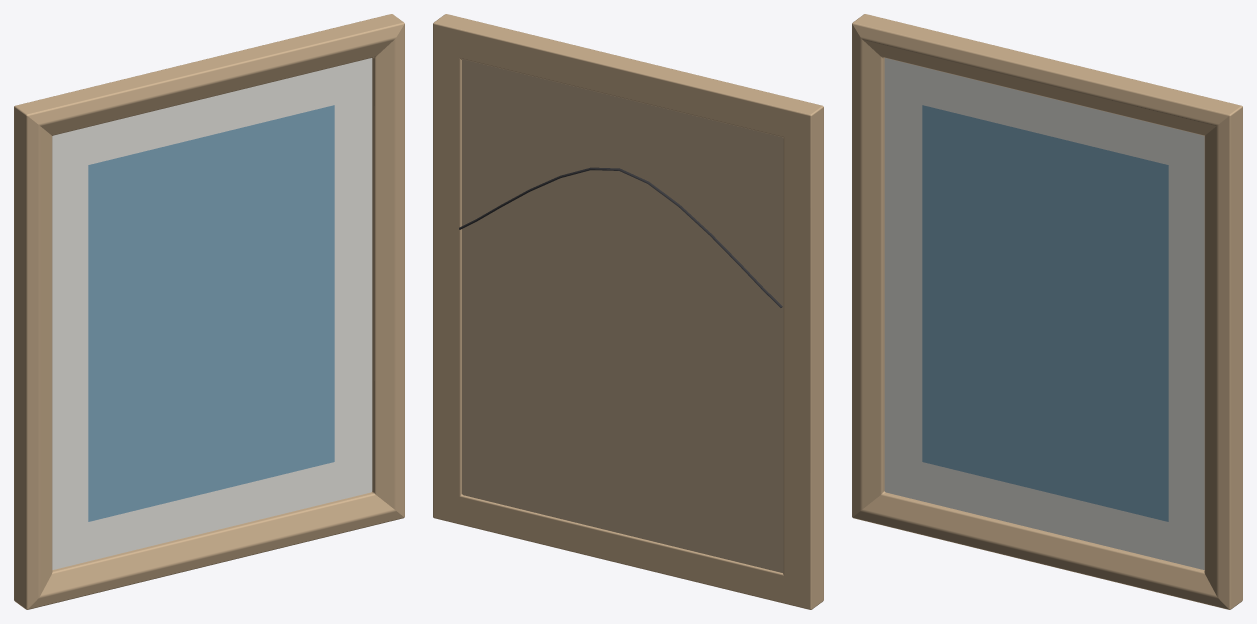
File: furniture_picture_frame_a.fbx
The picture shows the model from 3 angles, left to right: view 1: azimuth 30°, elevation 25°; view 2: azimuth 150°, elevation 25°; view 3: azimuth 330°, elevation 25°; orthographic projection.
Parts seen in each view (by area): view 1: furniture_picture_frame_a; view 2: furniture_picture_frame_a; view 3: furniture_picture_frame_a.
Part boxes in pixels (x1,y1,x2,y2): furniture_picture_frame_a: (14, 14, 404, 609); furniture_picture_frame_a: (433, 14, 823, 609); furniture_picture_frame_a: (852, 14, 1242, 609).
Size of the model in its own units: 0.4 by 0.5 by 0.0319.
